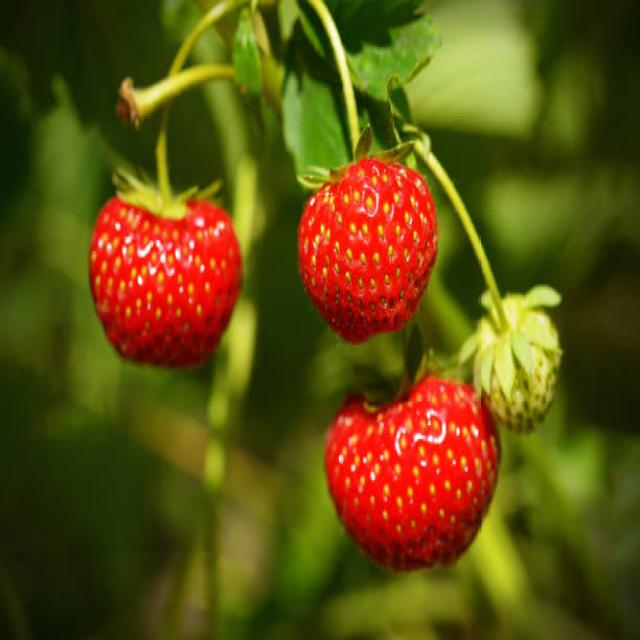Healthy Fruit: (325, 375, 500, 570), (88, 195, 243, 370), (297, 156, 438, 345)
